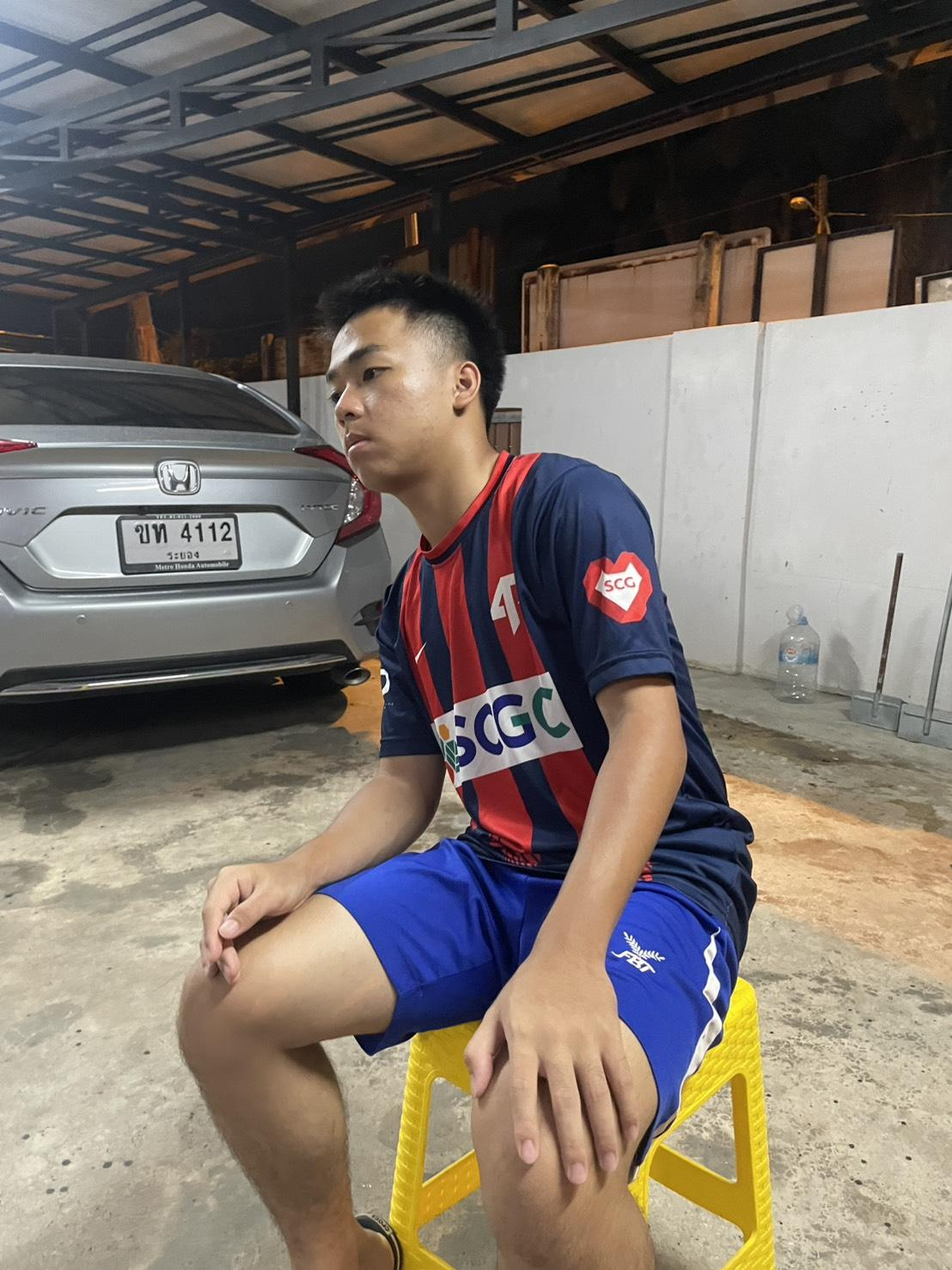BadPosture: (201, 271, 756, 977), (218, 269, 755, 920)
